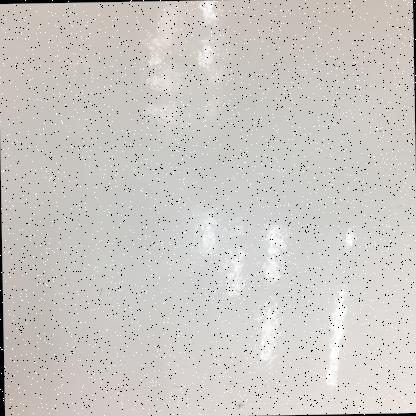Nocrack: (5, 8, 415, 415)
